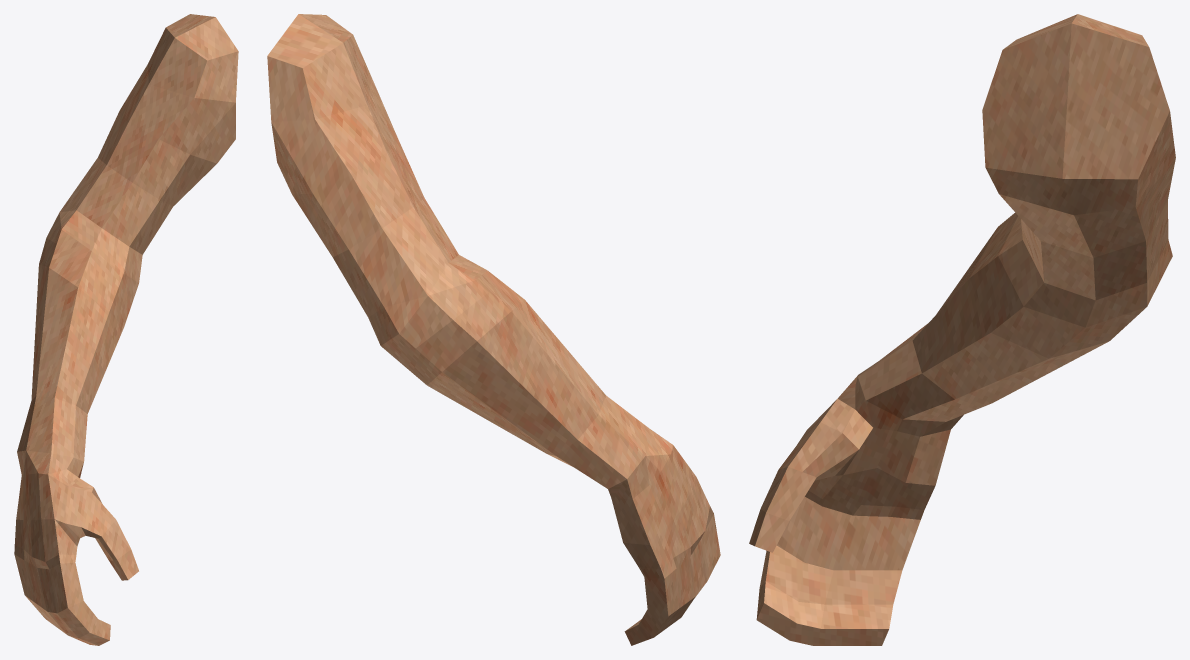
File: hand.glb
3 renders of one model, left to right at view 1: azimuth 30°, elevation 25°; view 2: azimuth 150°, elevation 25°; view 3: azimuth 270°, elevation 25°, orthographic. The views are drawn at different scales.
Parts seen in each view (by area): view 1: Armp; view 2: Armp; view 3: Armp.
Boxes of the visible parts, left/top/right/bottom form: Armp: left=14, top=14, right=238, bottom=645; Armp: left=267, top=14, right=720, bottom=645; Armp: left=749, top=14, right=1175, bottom=645.
Size of the model in its own units: 0.2451 by 0.4642 by 0.2306.
1 material, 1 textured.
